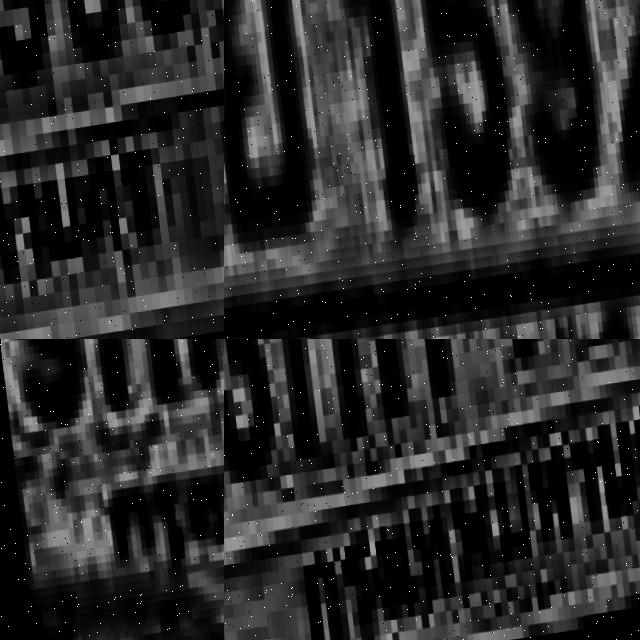license-plate: (224, 0, 640, 339), (224, 339, 640, 640), (0, 0, 224, 339), (0, 339, 224, 640)
